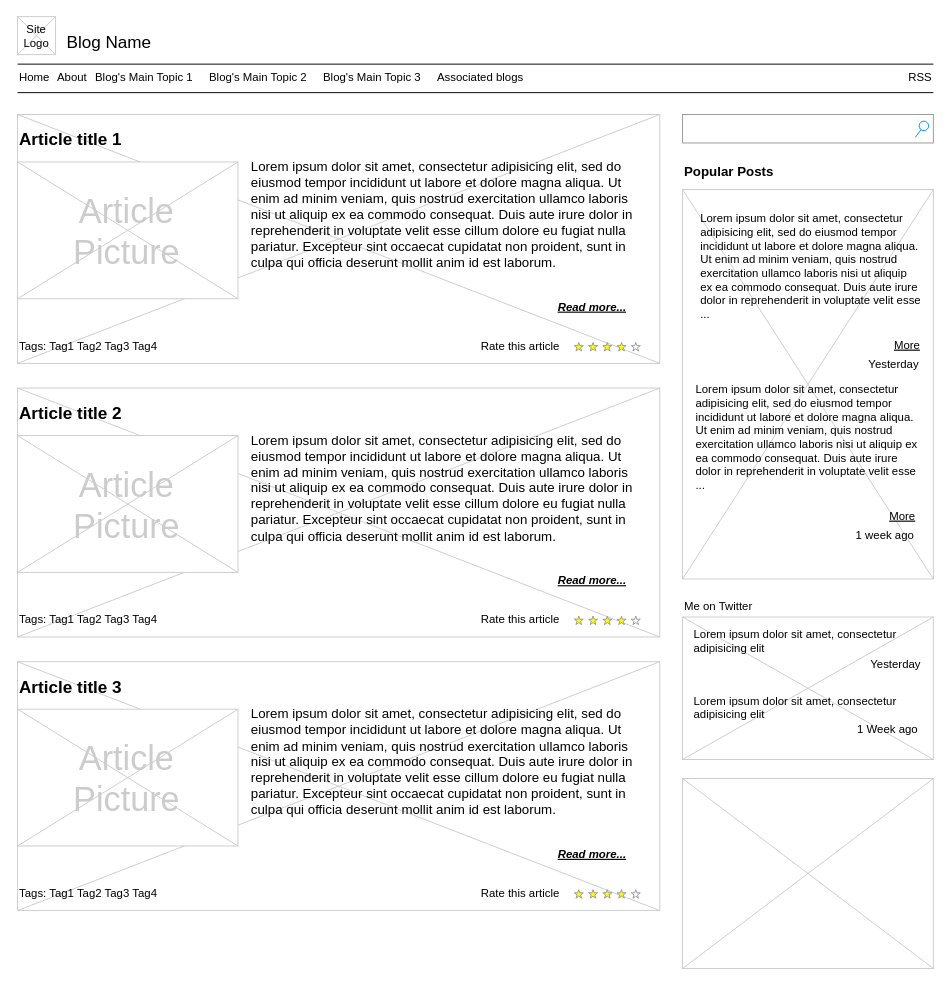
Some shapes in this 951 by 985 pixel diagram are drawn without their labels. The centre of each missing label's shape, as x and y in pixels:
"Search" goes at point 807,128.
"Tag Cloud" goes at point 807,873.
